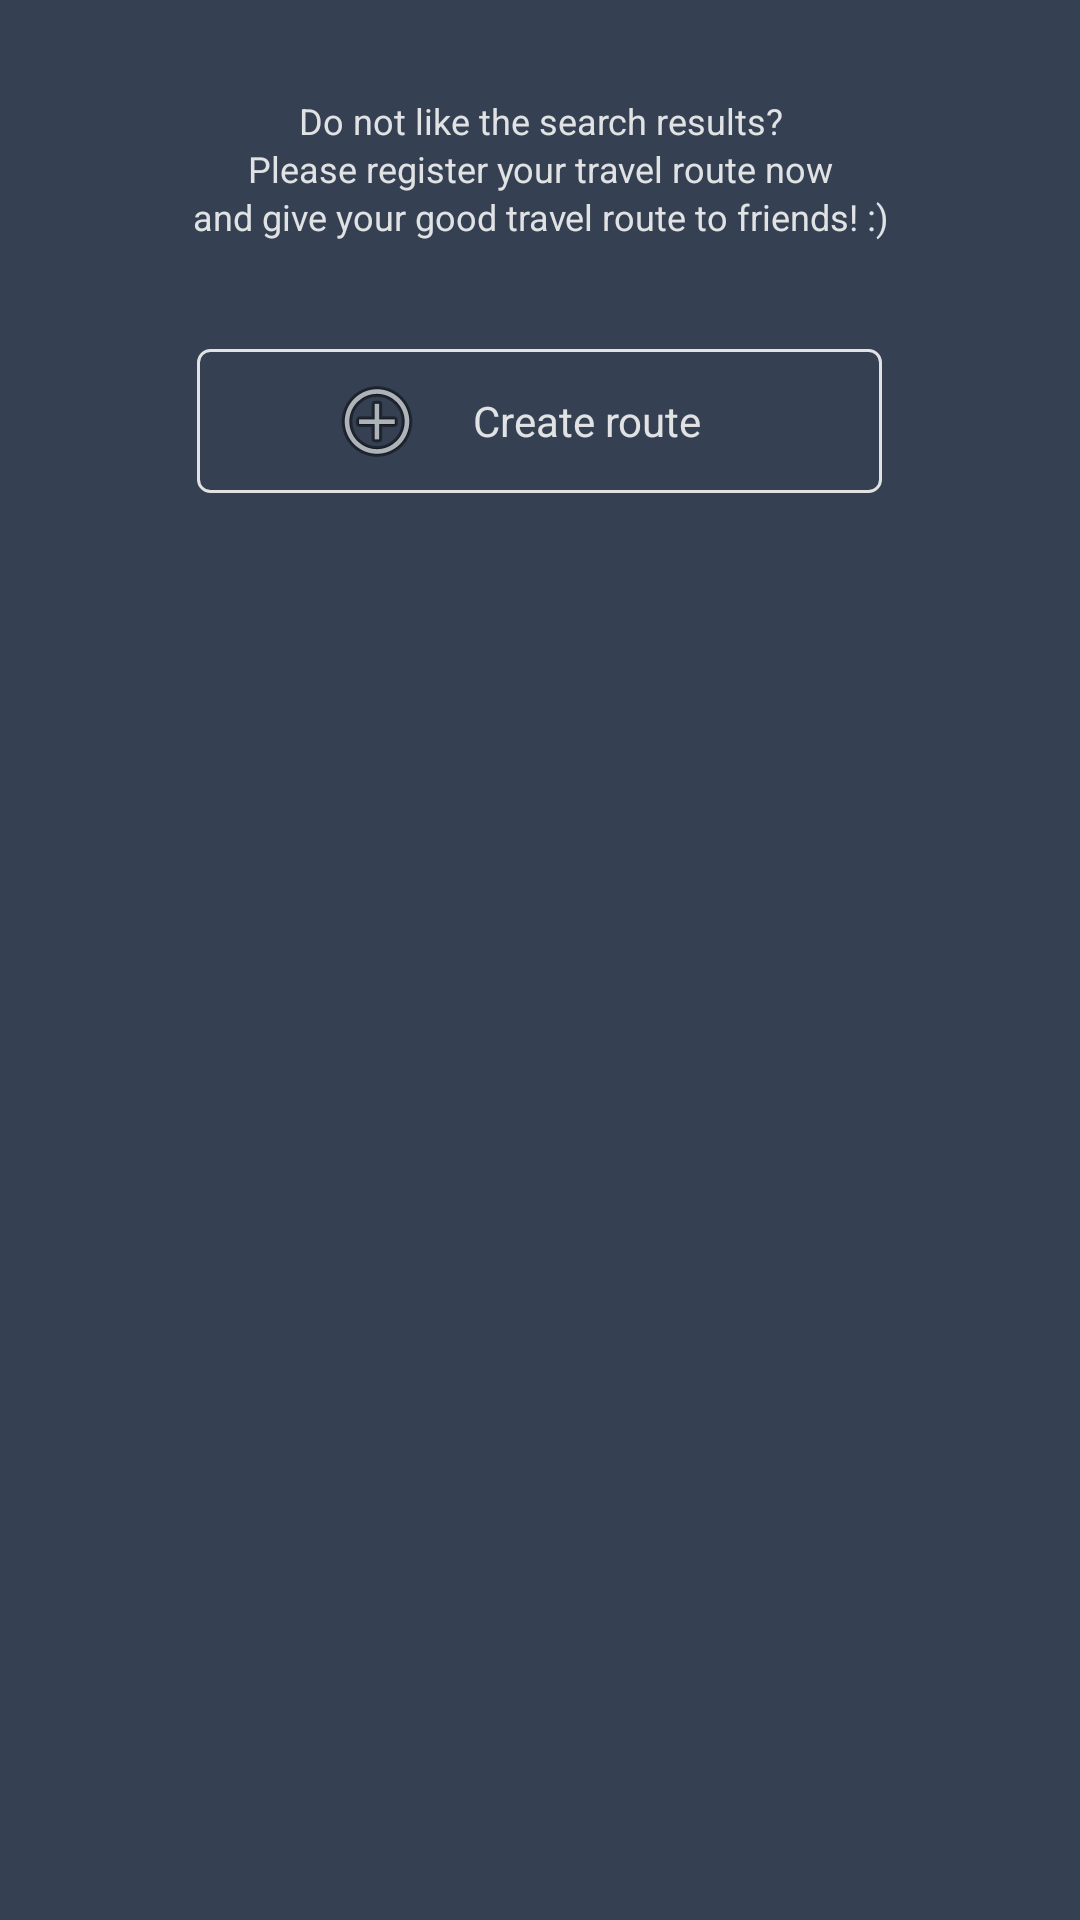

Point at icon controls on the screen. Image size 1080 × 1920, points as (x=x, y=y).
add: (x=377, y=421)
